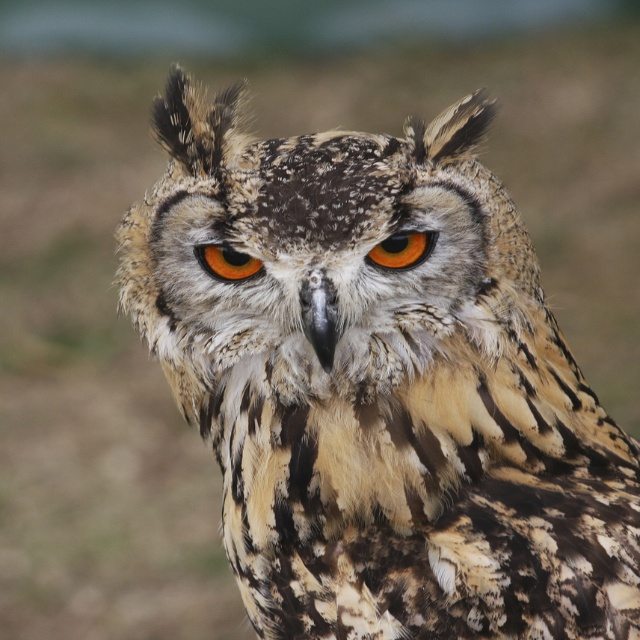Owl: (109, 60, 640, 640)
